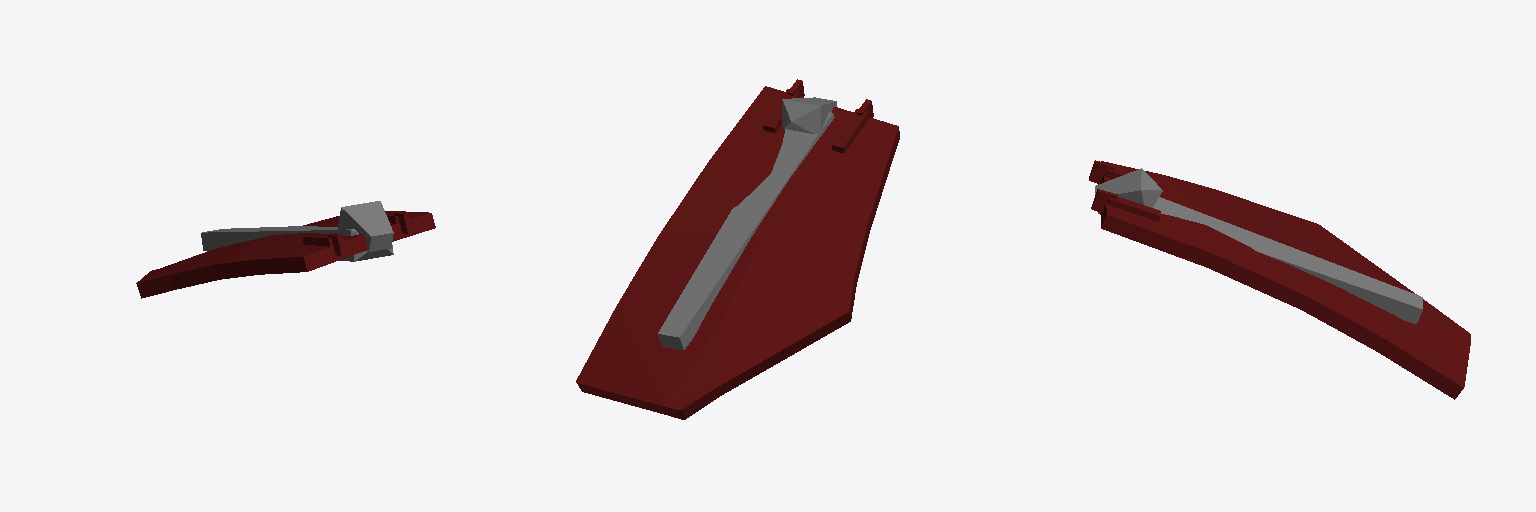
The model's file is flyD.obj.
3 renders of one model, left to right at view 1: azimuth 30°, elevation 25°; view 2: azimuth 150°, elevation 25°; view 3: azimuth 270°, elevation 25°, orthographic.
Parts seen in each view (by area): view 1: body:null_28, body:null_167, body:null_166; view 2: body:null_28, body:null_167, body:null_166; view 3: body:null_28, body:null_167, body:null_166.
Boxes of the visible parts, x1=… form: body:null_28: x1=136, y1=211, x2=435, y2=298; body:null_167: x1=201, y1=226, x2=393, y2=261; body:null_166: x1=337, y1=201, x2=393, y2=251; body:null_28: x1=576, y1=79, x2=899, y2=419; body:null_167: x1=658, y1=112, x2=834, y2=350; body:null_166: x1=782, y1=97, x2=836, y2=136; body:null_28: x1=1089, y1=160, x2=1470, y2=399; body:null_167: x1=1153, y1=197, x2=1422, y2=323; body:null_166: x1=1095, y1=168, x2=1162, y2=213.
Bounding box in the file's own units: 1.14 × 1.04 × 1.89.